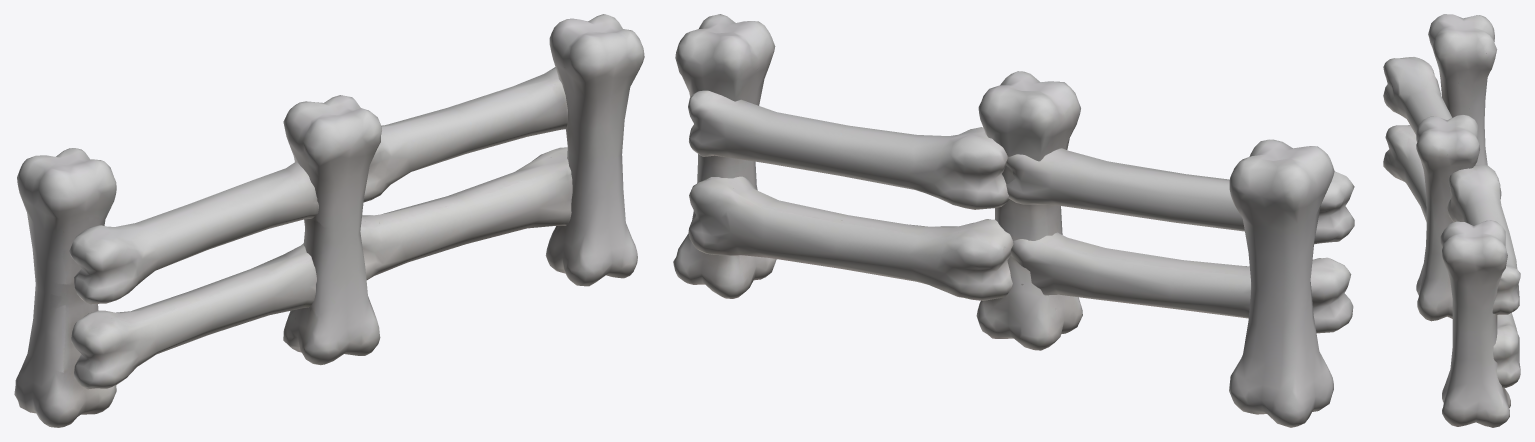
File: bone-fence.glb
3 views of the same model, side by side, from view 1: azimuth 30°, elevation 25°; view 2: azimuth 150°, elevation 25°; view 3: azimuth 270°, elevation 25° (orthographic). The views are drawn at different scales.
Visible parts, largest first — view 1: Bone Fence; view 2: Bone Fence; view 3: Bone Fence.
Part boxes in pixels (left/top/right/bottom): Bone Fence: left=14, top=14, right=644, bottom=427; Bone Fence: left=673, top=14, right=1354, bottom=427; Bone Fence: left=1383, top=14, right=1520, bottom=427.
Size of the model in its own units: 0.998 by 0.4043 by 0.252.
1 material, 1 textured.
